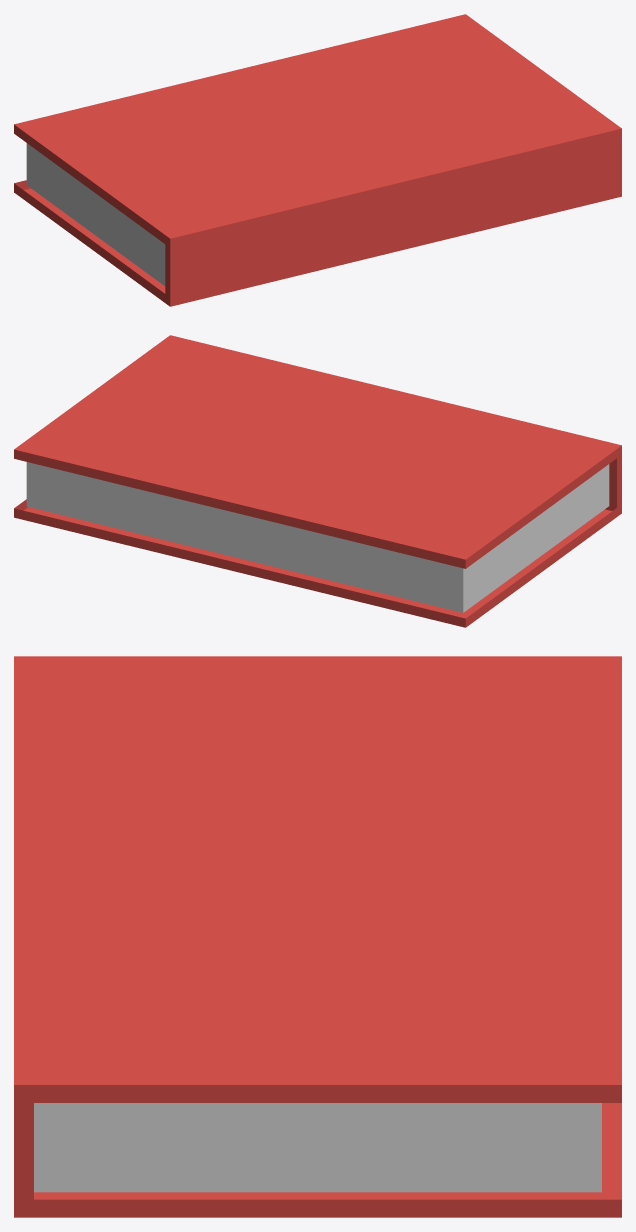
The model's file is bookred.glb.
The picture shows the model from 3 angles, top to bottom: view 1: azimuth 30°, elevation 25°; view 2: azimuth 150°, elevation 25°; view 3: azimuth 270°, elevation 25°; orthographic projection. The views are drawn at different scales.
Visible parts, largest first — view 1: Cube, Cube.001; view 2: Cube, Cube.001; view 3: Cube, Cube.001.
Boxes of the visible parts, box(x1,y1,x2,y2) form: Cube: box(14, 14, 621, 306); Cube.001: box(26, 143, 165, 285); Cube: box(14, 335, 621, 627); Cube.001: box(26, 462, 609, 612); Cube: box(14, 656, 621, 1217); Cube.001: box(34, 1103, 601, 1192).
Size of the model in its own units: 3.23 by 0.4653 by 1.93.
